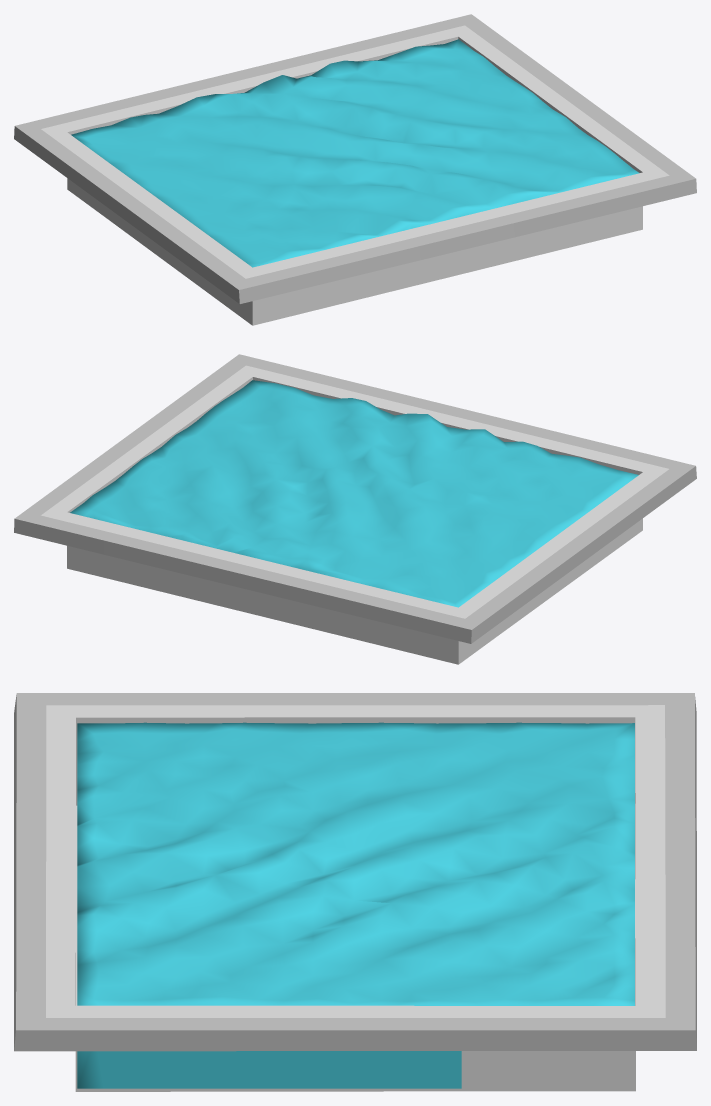
Rendered from Water.fbx.
The picture shows the model from 3 angles, top to bottom: view 1: azimuth 30°, elevation 25°; view 2: azimuth 150°, elevation 25°; view 3: azimuth 270°, elevation 25°; orthographic projection. The views are drawn at different scales.
Parts seen in each view (by area): view 1: Pool water 2, Pool separate 012, Pool separate 008, Pool separate 010, Pool separate 009, Pool separate 011, Pool separate 015, Pool separate 013, Pool separate 014, Pool separate 019, Pool separate 001, Pool separate 020 (+3 smaller); view 2: Pool water 2, Pool separate 015, Pool separate 019, Pool separate 017, Pool separate 018, Pool separate 016, Pool separate 012, Pool separate 013, Pool separate 014, Pool separate 008, Pool separate 001, Pool separate 020 (+3 smaller); view 3: Pool water 2, Pool separate 019, Pool separate 008, Pool separate 020, Pool separate 001, Pool separate 012, Pool separate 015, Pool separate 013, Pool separate 014, Pool separate 010, Pool separate 017, Pool separate 009 (+3 smaller).
Part boxes in pixels (x1,y1,x2,y2): Pool water 2: [71, 39, 639, 267]; Pool separate 012: [182, 240, 330, 325]; Pool separate 008: [586, 137, 696, 243]; Pool separate 010: [400, 209, 514, 289]; Pool separate 009: [494, 186, 606, 265]; Pool separate 011: [310, 231, 420, 311]; Pool separate 015: [14, 103, 125, 214]; Pool separate 013: [125, 199, 215, 297]; Pool separate 014: [69, 158, 158, 255]; Pool separate 019: [382, 14, 525, 64]; Pool separate 001: [549, 95, 638, 146]; Pool separate 020: [493, 54, 581, 106]; Pool water 2: [70, 380, 638, 607]; Pool separate 015: [380, 582, 526, 664]; Pool separate 019: [14, 478, 123, 582]; Pool separate 017: [196, 548, 310, 628]; Pool separate 018: [104, 526, 216, 605]; Pool separate 016: [290, 571, 400, 650]; Pool separate 012: [585, 443, 696, 556]; Pool separate 013: [549, 499, 639, 598]; Pool separate 014: [493, 541, 582, 638]; Pool separate 008: [182, 354, 328, 404]; Pool separate 001: [125, 396, 215, 448]; Pool separate 020: [69, 437, 158, 488]; Pool water 2: [77, 722, 634, 1088]; Pool separate 019: [529, 964, 696, 1091]; Pool separate 008: [14, 964, 188, 1091]; Pool separate 020: [360, 1005, 529, 1091]; Pool separate 001: [188, 1005, 360, 1091]; Pool separate 012: [14, 693, 188, 847]; Pool separate 015: [529, 693, 696, 845]; Pool separate 013: [188, 693, 360, 723]; Pool separate 014: [360, 693, 529, 723]; Pool separate 010: [14, 826, 77, 982]; Pool separate 017: [635, 826, 696, 981]; Pool separate 009: [14, 895, 77, 1005].
Bounding box in the file's own units: 416 × 56.2 × 356.
